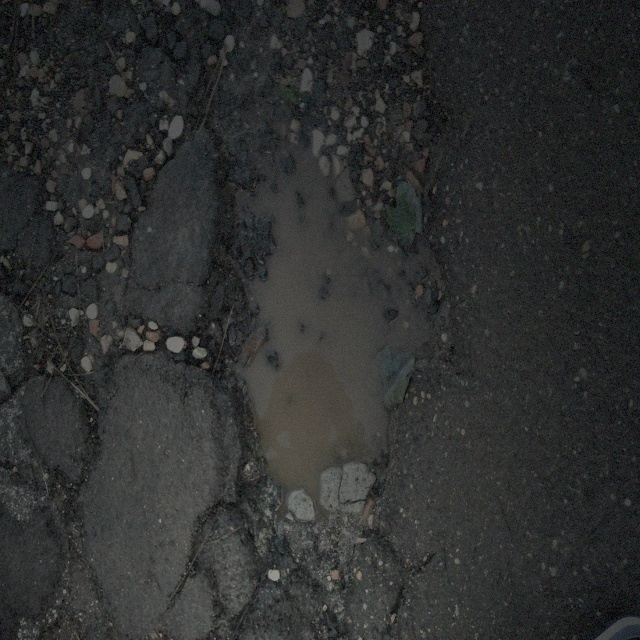pothole: (203, 122, 450, 579)
